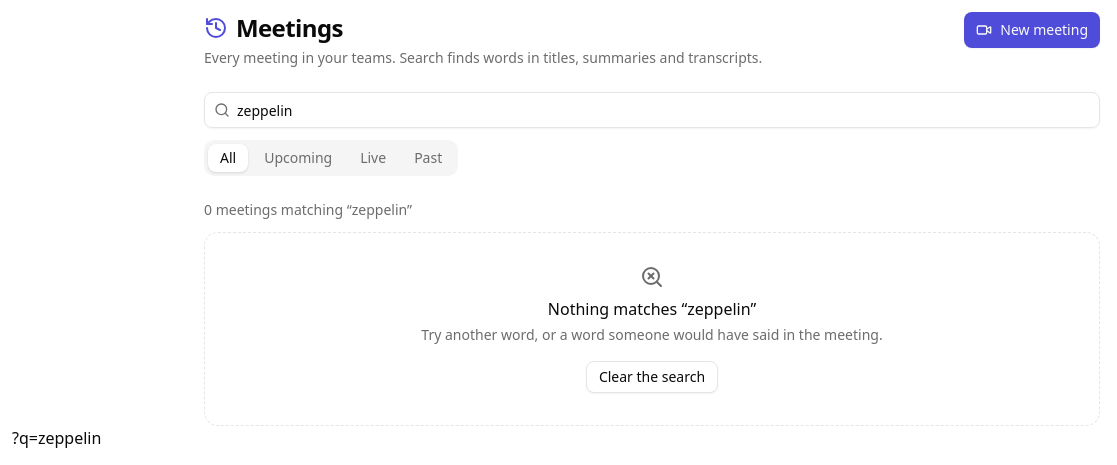
Test: <MeetingsPage /> › offers to clear a search that found nothing
Expected: the text "Nothing matches “zeppelin”" is shown, [548, 298, 756, 320]
What coordinates should you click on to do the following:
click the button "Clear the search"
I would click on:
 (652, 377)
Its box is [586, 361, 718, 393].
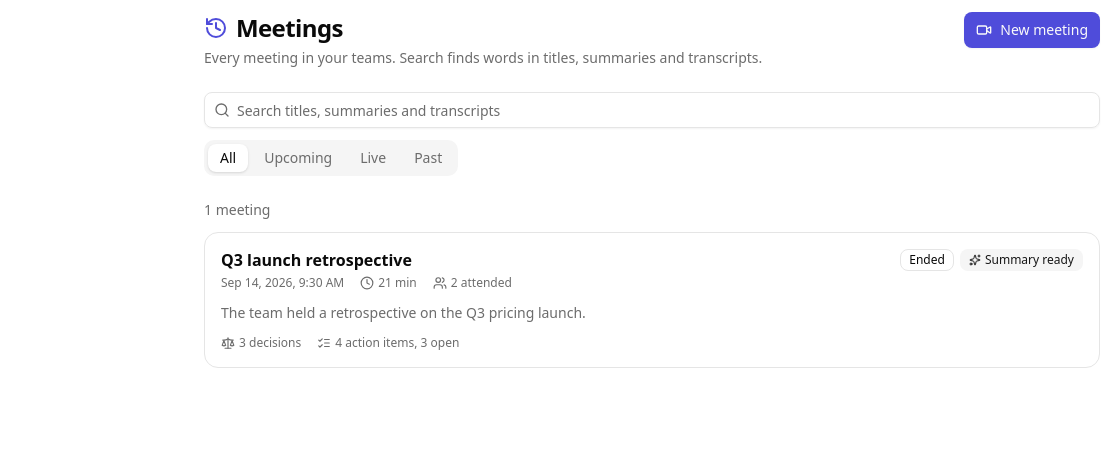
Now the text "1 meeting" is shown, box [204, 200, 270, 219]
Now the search field named "Search meetings" is empty, box [204, 92, 1100, 128]
